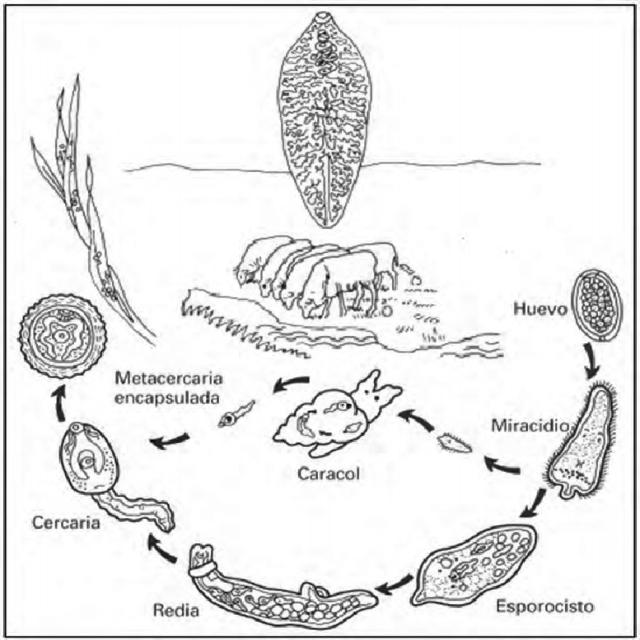Fasciola Hepatica: (566, 263, 624, 344)
